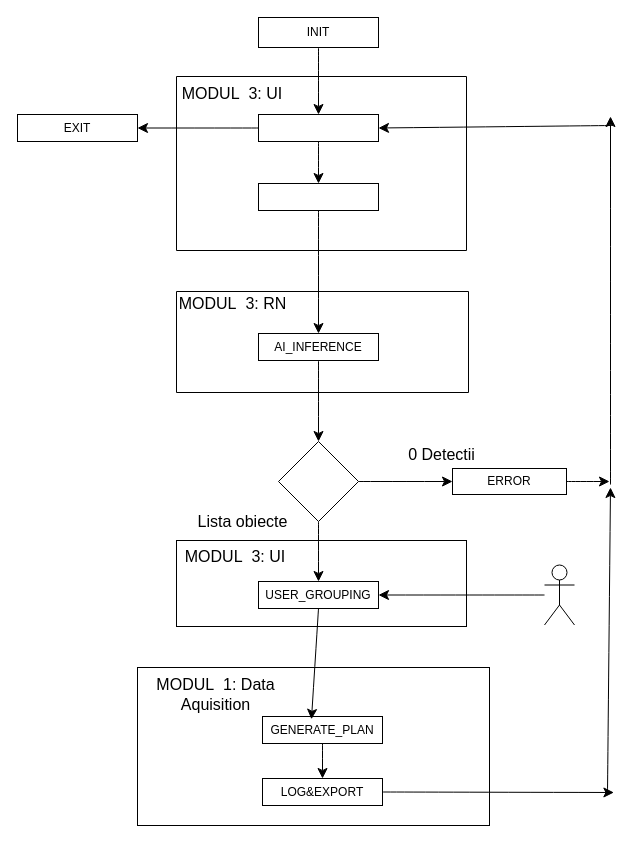
Image size: 633x843. Some labels were removed from this diagram. The centre of each missing label's shape, as x and y in pixels:
DETECT?: point 318,481
IDLE: point 318,128
PREPROCESS: point 318,196
User: point 559,594
